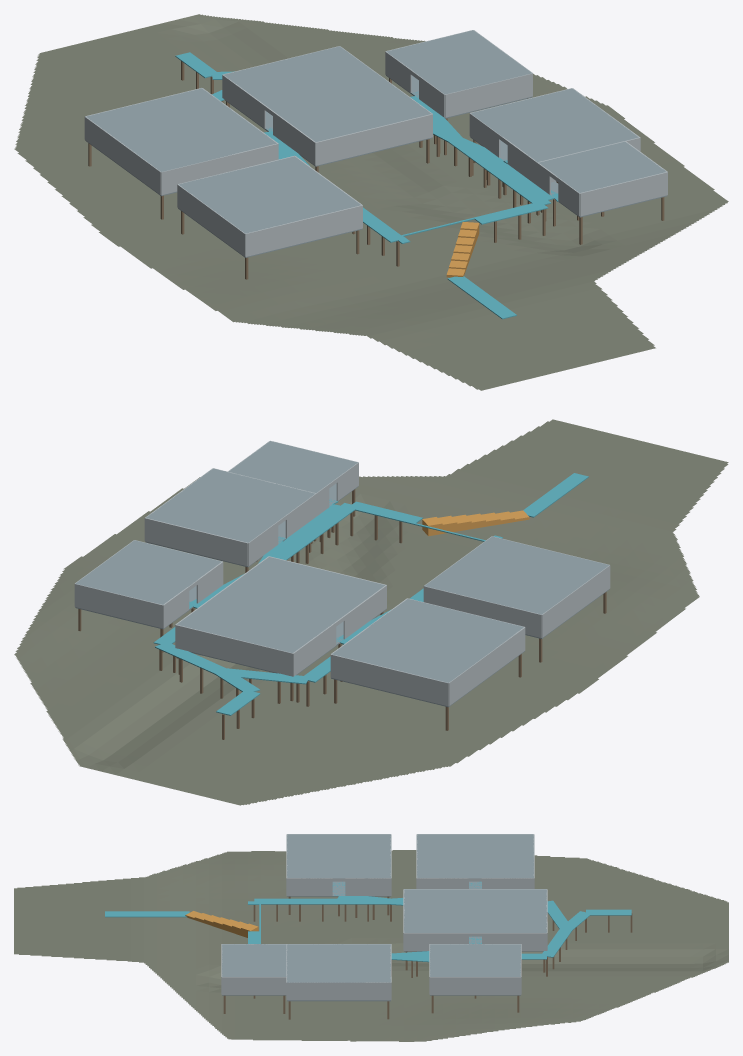
Rendered from supported-terrain.glb.
3 renders of one model, top to bottom at view 1: azimuth 30°, elevation 25°; view 2: azimuth 150°, elevation 25°; view 3: azimuth 270°, elevation 25°, orthographic. The views are drawn at different scales.
Parts seen in each view (by area): view 1: Saved editor macroterrain WLD-11, Ceiling cap warehouse, Ceiling cap chapel, Ceiling cap house-a, Ceiling cap house-b, Ceiling cap shack, Ceiling cap pump, Wall warehouse S, Wall house-a S, Wall pump S, Wall chapel S, Wall shack S (+11 smaller); view 2: Saved editor macroterrain WLD-11, Ceiling cap warehouse, Ceiling cap chapel, Ceiling cap house-a, Ceiling cap house-b, Ceiling cap shack, Ceiling cap pump, Wall chapel N, Wall warehouse N, Wall house-b N, Wall shack N, Wall house-a N (+12 smaller); view 3: Saved editor macroterrain WLD-11, Ceiling cap warehouse, Ceiling cap chapel, Ceiling cap house-a, Ceiling cap house-b, Ceiling cap shack, Ceiling cap pump, Wall house-b E, Wall shack E, Wall pump E, L03 support 1, Wall warehouse E (+7 smaller).
Part boxes in pixels (x1,y1,x2,y2): Saved editor macroterrain WLD-11: (14, 14, 728, 390); Ceiling cap warehouse: (223, 46, 431, 141); Ceiling cap chapel: (85, 88, 276, 171); Ceiling cap house-a: (179, 156, 361, 233); Ceiling cap house-b: (471, 88, 638, 162); Ceiling cap shack: (386, 30, 531, 94); Ceiling cap pump: (538, 141, 666, 192); Wall warehouse S: (315, 114, 432, 165); Wall house-a S: (245, 205, 362, 256); Wall pump S: (580, 172, 667, 216); Wall chapel S: (161, 143, 278, 195); Wall shack S: (445, 73, 532, 117); Saved editor macroterrain WLD-11: (14, 419, 728, 805); Ceiling cap warehouse: (176, 557, 384, 652); Ceiling cap chapel: (332, 598, 523, 682); Ceiling cap house-a: (424, 536, 609, 614); Ceiling cap house-b: (146, 468, 314, 542); Ceiling cap shack: (75, 540, 221, 604); Ceiling cap pump: (228, 441, 357, 492); Wall chapel N: (330, 654, 448, 706); Wall warehouse N: (175, 625, 293, 676); Wall house-b N: (145, 518, 247, 566); Wall shack N: (75, 583, 163, 628); Wall house-a N: (424, 586, 541, 637); Saved editor macroterrain WLD-11: (14, 850, 728, 1041); Ceiling cap warehouse: (404, 889, 546, 932); Ceiling cap chapel: (417, 834, 533, 878); Ceiling cap house-a: (287, 834, 390, 878); Ceiling cap house-b: (287, 944, 390, 982); Ceiling cap shack: (430, 944, 520, 976); Ceiling cap pump: (222, 944, 286, 976); Wall house-b E: (287, 982, 390, 1000); Wall shack E: (430, 977, 520, 994); Wall pump E: (222, 977, 286, 994); L03 support 1: (254, 898, 390, 904); Wall warehouse E: (482, 933, 546, 950).
Size of the model in its own units: 70 by 7.47 by 110.
Materials: 16 (10 with a texture image).
